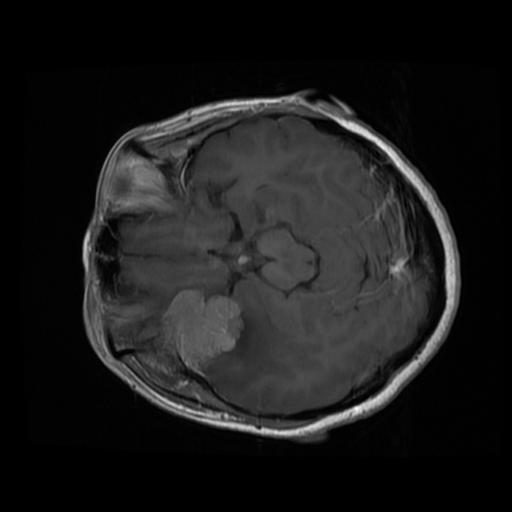meningioma: (161, 288, 244, 371)
